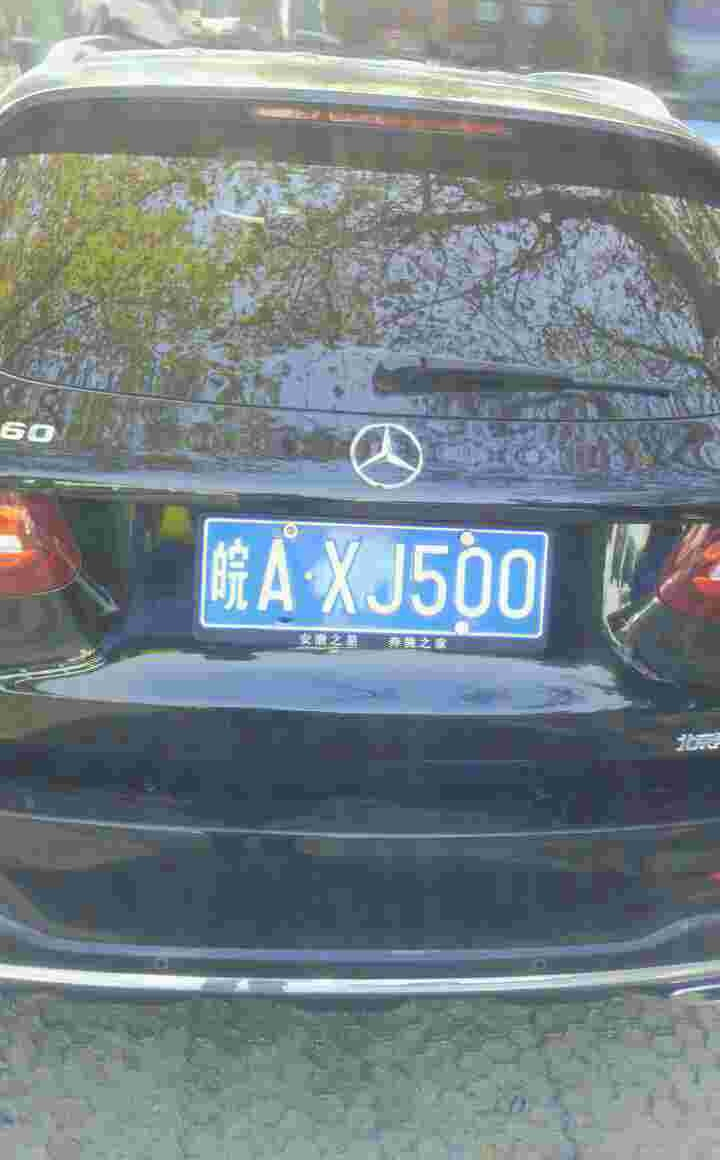license_plate: (217, 531, 544, 635)
